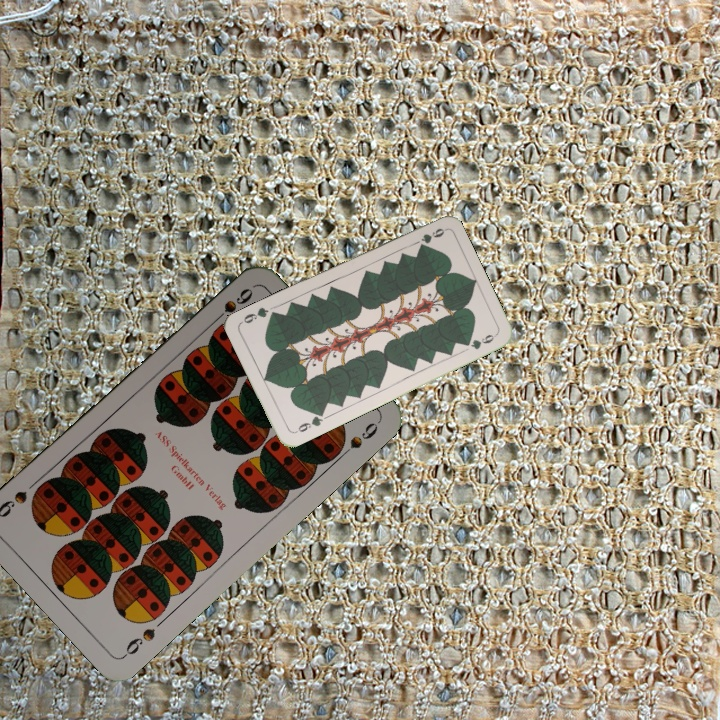G9: (290, 408, 326, 436), (417, 224, 447, 245)
S9: (207, 284, 256, 328), (119, 624, 158, 660)
